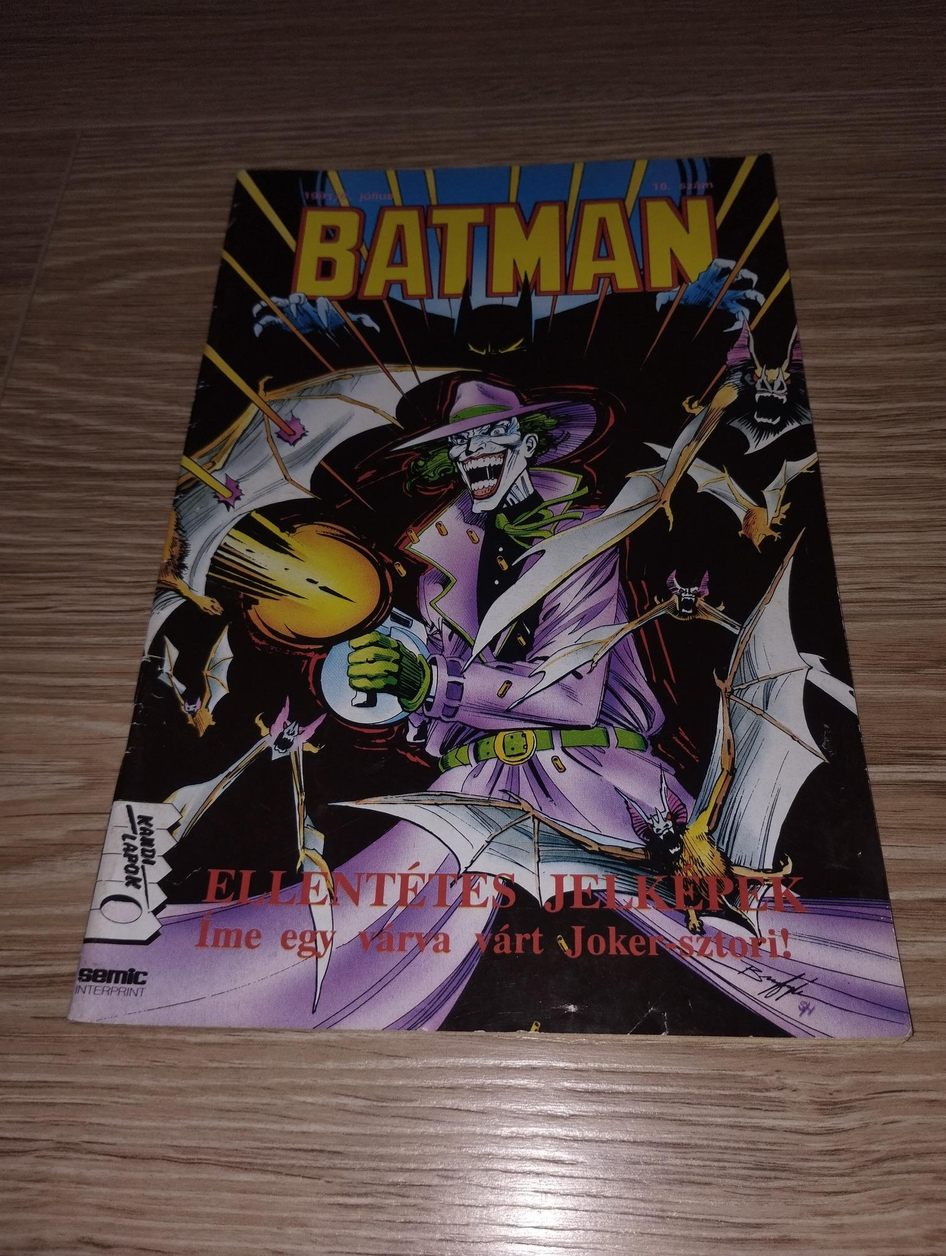comic: (70, 145, 923, 1038)
